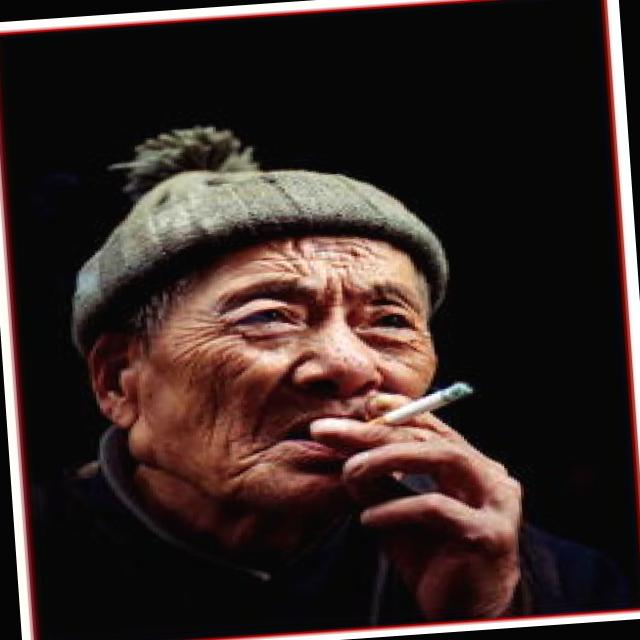smoke: (356, 380, 475, 443)
